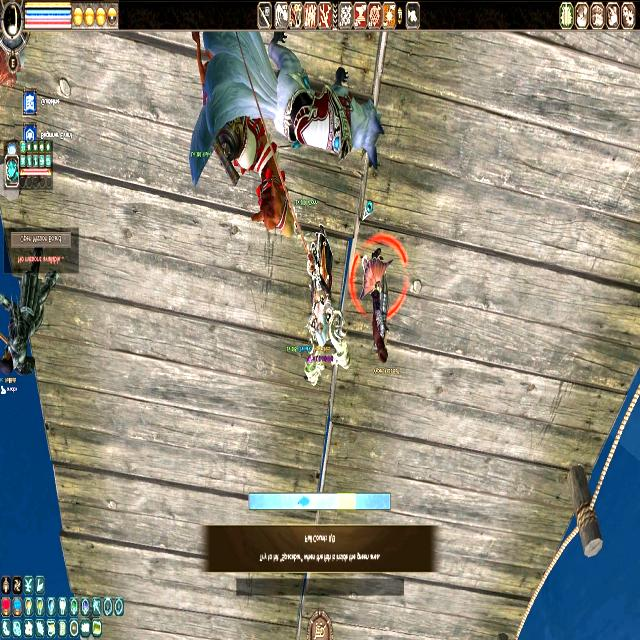fishes: (297, 495, 310, 509)
